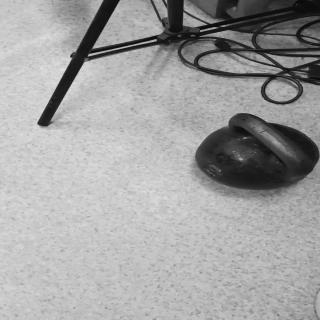kettlebell: (199, 113, 320, 192)
